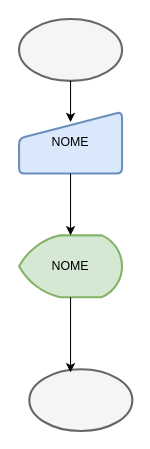
The diagram is 150 pixels wide and 449 high, and some of its shapes have lost their labels. Here are the shapes that lost their labels. From the top down, the centre of each, then its label:
At [70,49]: "INICIO".
At [80,400]: "FIM".
